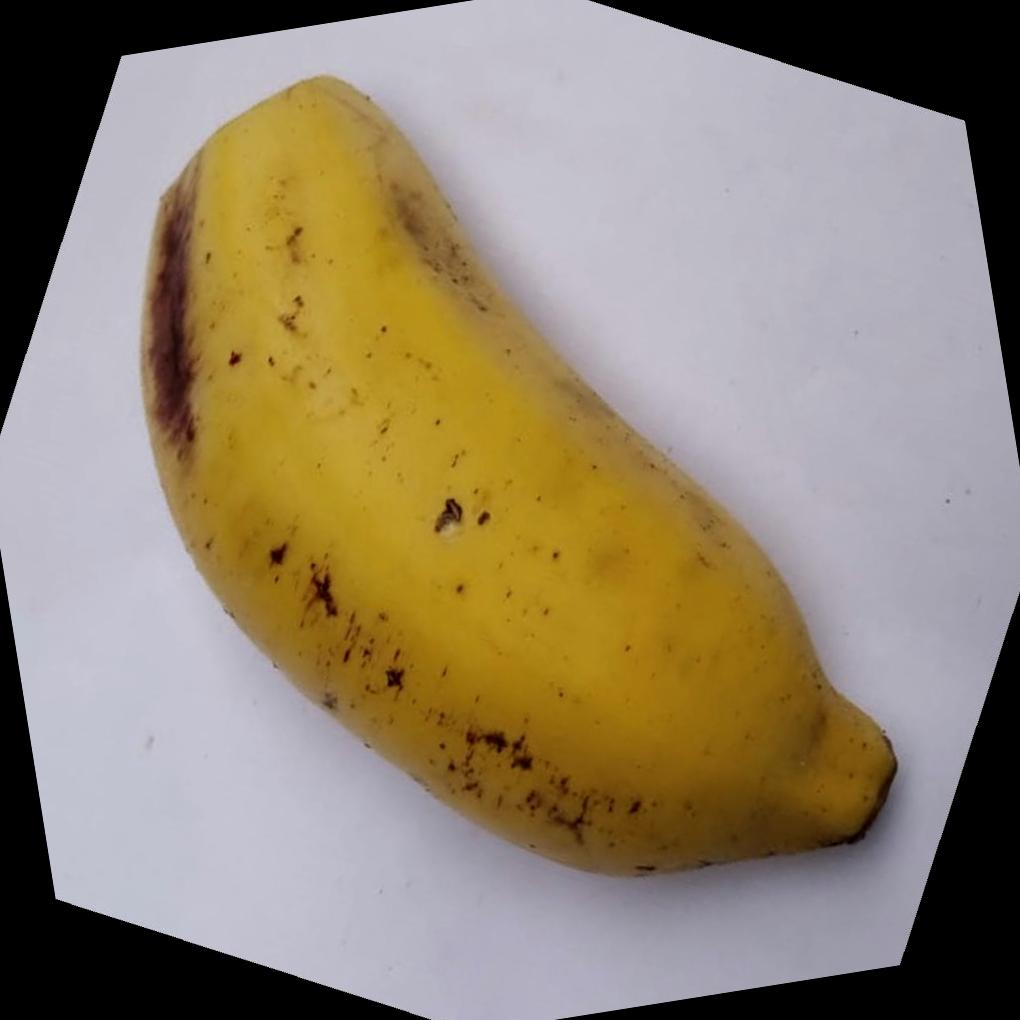Banana Ripe: (88, 0, 928, 949)
